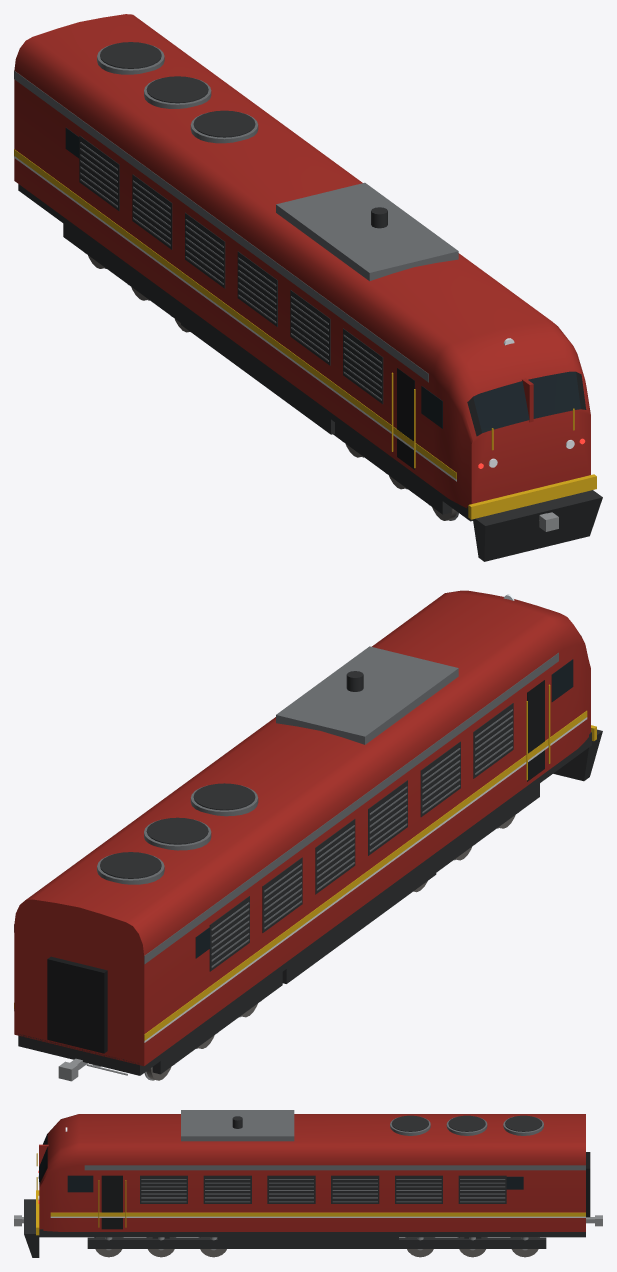
File: RS_Loco_Diesel.fbx
3 views of the same model, one above another, from view 1: azimuth 30°, elevation 25°; view 2: azimuth 150°, elevation 25°; view 3: azimuth 270°, elevation 25° (orthographic). The views are drawn at different scales.
Visible parts, largest first — view 1: Loco_Diesel_Paint_LocoRed, Loco_Diesel_Underframe, Loco_Diesel_Paint_Grey, Loco_Diesel_Paint_Yellow, Loco_Diesel_Glass, Loco_Diesel_Rubber, Loco_Diesel_Paint_White; view 2: Loco_Diesel_Paint_LocoRed, Loco_Diesel_Underframe, Loco_Diesel_Paint_Grey, Loco_Diesel_Rubber, Loco_Diesel_Paint_Yellow, Loco_Diesel_Paint_White, Loco_Diesel_Glass; view 3: Loco_Diesel_Paint_LocoRed, Loco_Diesel_Underframe, Loco_Diesel_Paint_Grey, Loco_Diesel_Paint_Yellow, Loco_Diesel_Rubber, Loco_Diesel_Wheel, Loco_Diesel_Paint_White, Loco_Diesel_Glass, Loco_Diesel_Steel.
Part boxes in pixels (x1,y1,x2,y2): Loco_Diesel_Paint_LocoRed: [14, 14, 590, 507]; Loco_Diesel_Underframe: [18, 42, 602, 561]; Loco_Diesel_Paint_Grey: [14, 44, 458, 400]; Loco_Diesel_Paint_Yellow: [14, 149, 596, 519]; Loco_Diesel_Glass: [65, 127, 580, 432]; Loco_Diesel_Rubber: [397, 368, 586, 469]; Loco_Diesel_Paint_White: [14, 156, 456, 481]; Loco_Diesel_Paint_LocoRed: [14, 590, 590, 1066]; Loco_Diesel_Underframe: [18, 671, 602, 1075]; Loco_Diesel_Paint_Grey: [14, 646, 558, 967]; Loco_Diesel_Rubber: [47, 680, 544, 1053]; Loco_Diesel_Paint_Yellow: [14, 684, 596, 1040]; Loco_Diesel_Paint_White: [14, 717, 587, 1042]; Loco_Diesel_Glass: [195, 659, 573, 958]; Loco_Diesel_Paint_LocoRed: [39, 1114, 585, 1231]; Loco_Diesel_Underframe: [24, 1115, 585, 1257]; Loco_Diesel_Paint_Grey: [84, 1110, 585, 1202]; Loco_Diesel_Paint_Yellow: [36, 1153, 585, 1235]; Loco_Diesel_Rubber: [39, 1152, 590, 1229]; Loco_Diesel_Wheel: [95, 1237, 538, 1257]; Loco_Diesel_Paint_White: [50, 1216, 585, 1217]; Loco_Diesel_Glass: [39, 1133, 523, 1192]; Loco_Diesel_Steel: [14, 1215, 602, 1250].
Size of the model in its own units: 3.35 by 5.2 by 20.8.
